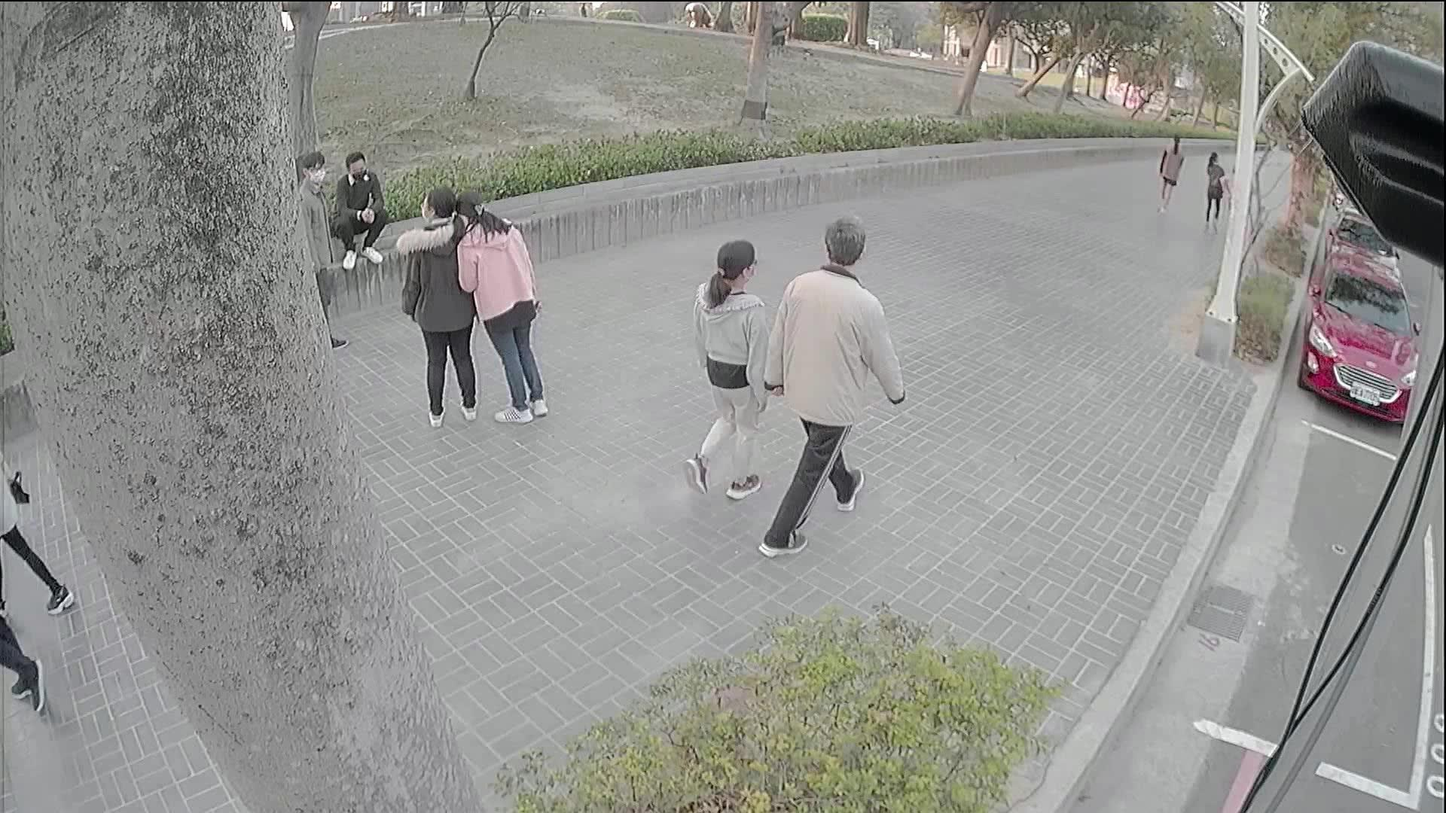person: (764, 215, 905, 556), (462, 190, 545, 419), (688, 240, 761, 498), (397, 184, 475, 418), (294, 154, 334, 327), (331, 156, 386, 260), (1157, 133, 1182, 211), (1200, 150, 1223, 223)
